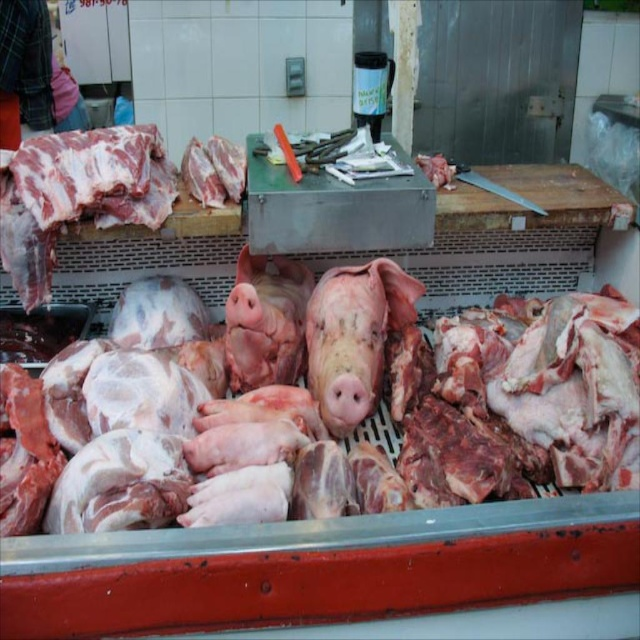Pig: (306, 258, 426, 436), (223, 245, 317, 395)
